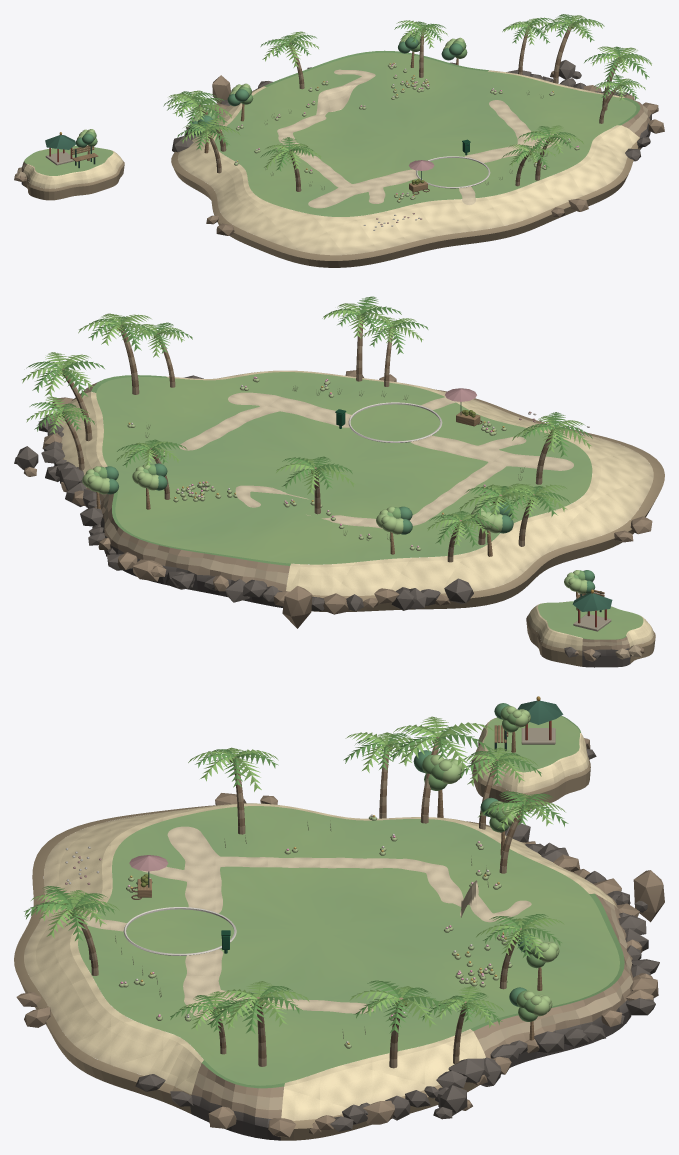
The model's file is terrain.glb.
3 views of the same model, one above another, from view 1: azimuth 30°, elevation 25°; view 2: azimuth 150°, elevation 25°; view 3: azimuth 270°, elevation 25° (orthographic). The views are drawn at different scales.
Parts seen in each view (by area): view 1: terrain_static; view 2: terrain_static; view 3: terrain_static.
Boxes of the visible parts, x1,y1,x2,y2 form: terrain_static: (14,14,664,267); terrain_static: (14,296,664,667); terrain_static: (14,696,664,1140).
Bounding box in the file's own units: 37.31 × 6.06 × 24.89.
5 materials, 2 textured.
